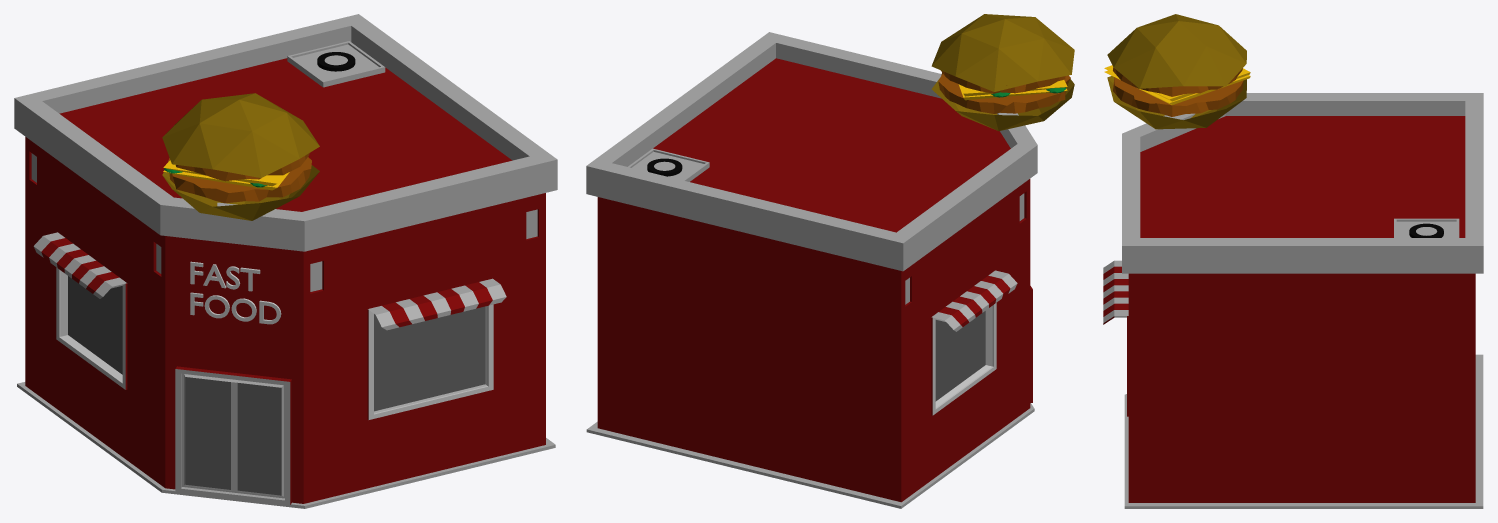
The model's file is fast_food.glb.
The picture shows the model from 3 angles, left to right: view 1: azimuth 30°, elevation 25°; view 2: azimuth 150°, elevation 25°; view 3: azimuth 270°, elevation 25°; orthographic projection. The views are drawn at different scales.
Parts seen in each view (by area): view 1: FAST FOOD_Material.018_0; view 2: FAST FOOD_Material.018_0; view 3: FAST FOOD_Material.018_0.
Part boxes in pixels (<box>): FAST FOOD_Material.018_0: <box>14,14,557,508</box>; FAST FOOD_Material.018_0: <box>586,14,1074,508</box>; FAST FOOD_Material.018_0: <box>1103,14,1483,508</box>.
Size of the model in its own units: 1.63 by 1.7 by 1.63.
Materials: 1 (1 with a texture image).
